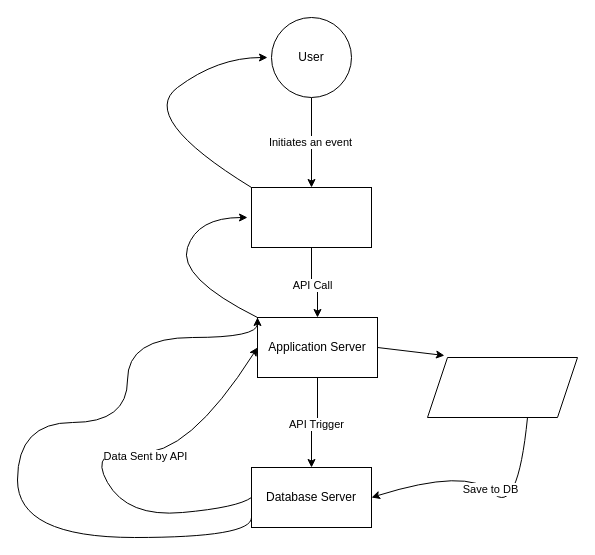
Image size: 595x555. Some labels were removed from this diagram. The box of each missing label's shape, as (x1, y1, x2, y2) in pixels:
Application server processes data: (426, 356, 578, 418)
Web Server: (250, 186, 372, 248)
